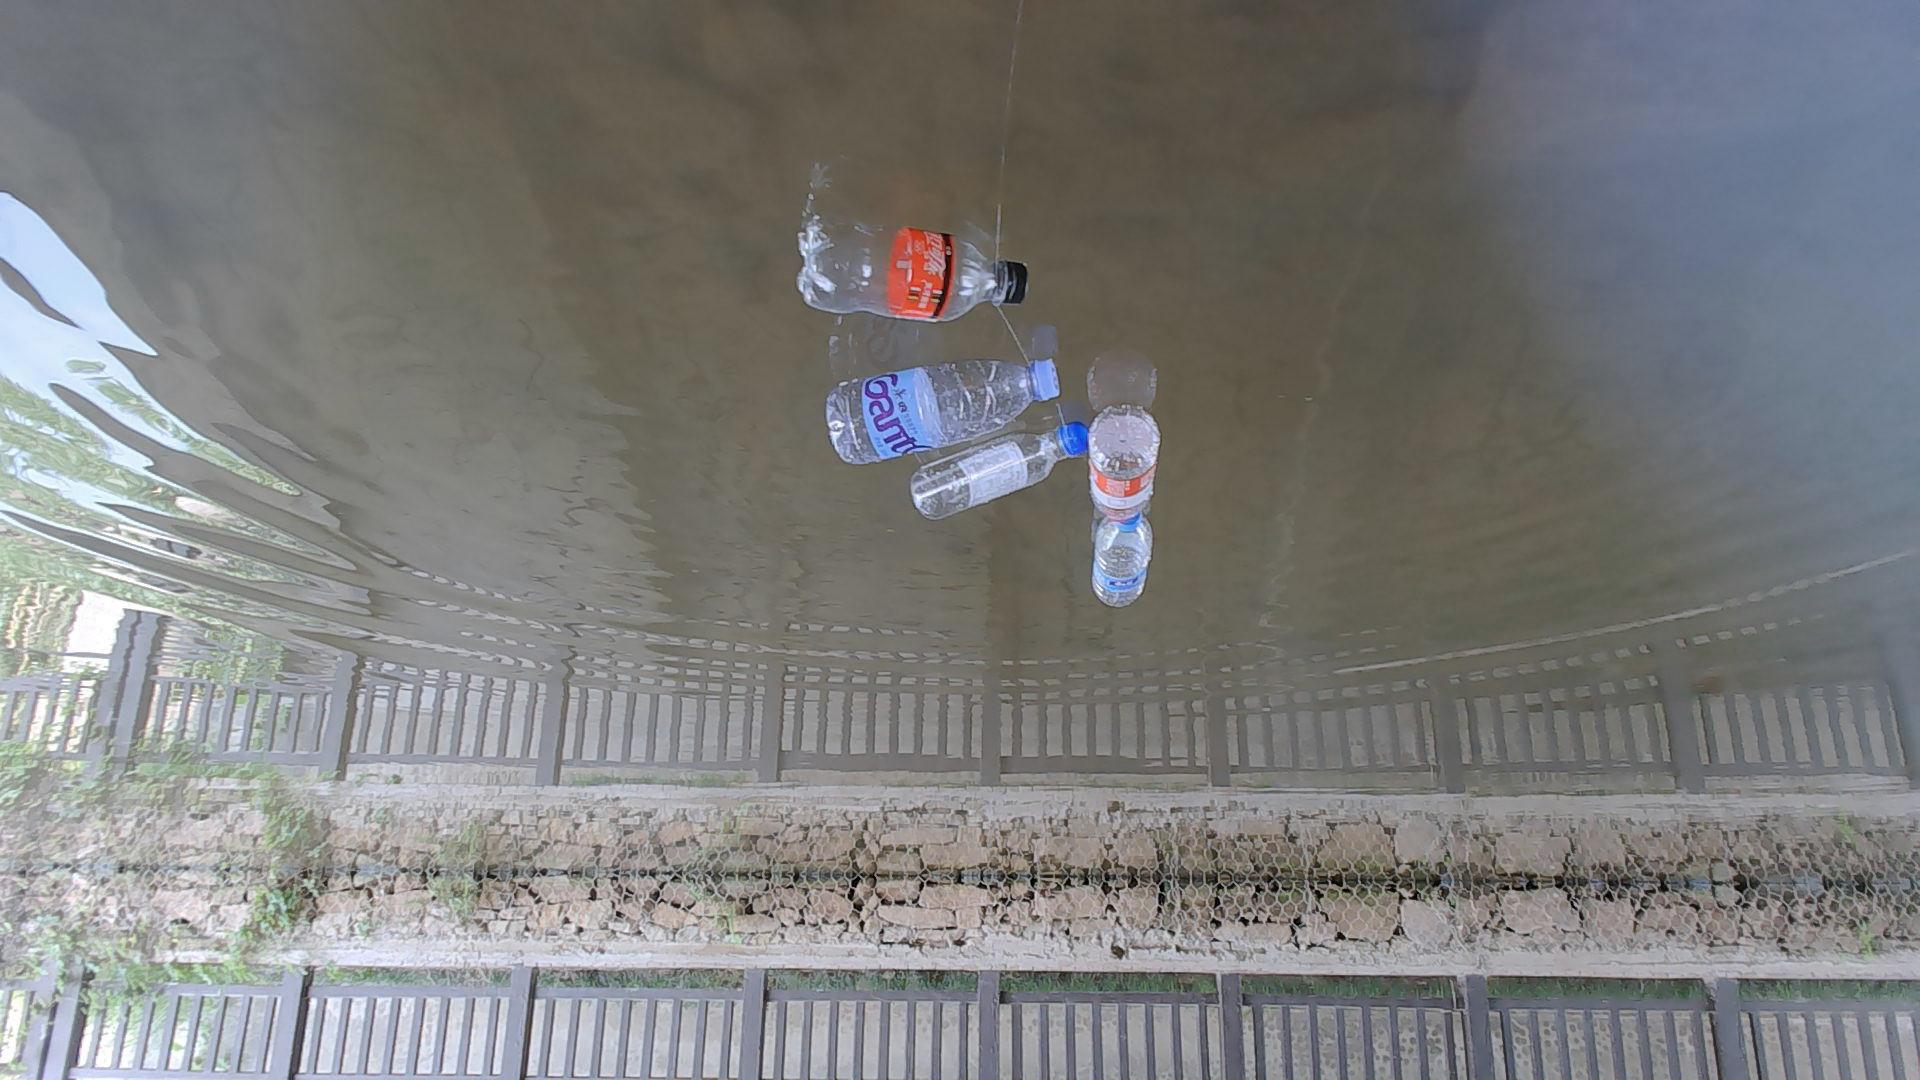Plastic: (794, 210, 1040, 331), (825, 356, 1062, 463), (907, 438, 1085, 531), (1085, 404, 1164, 525), (1087, 516, 1156, 618)
